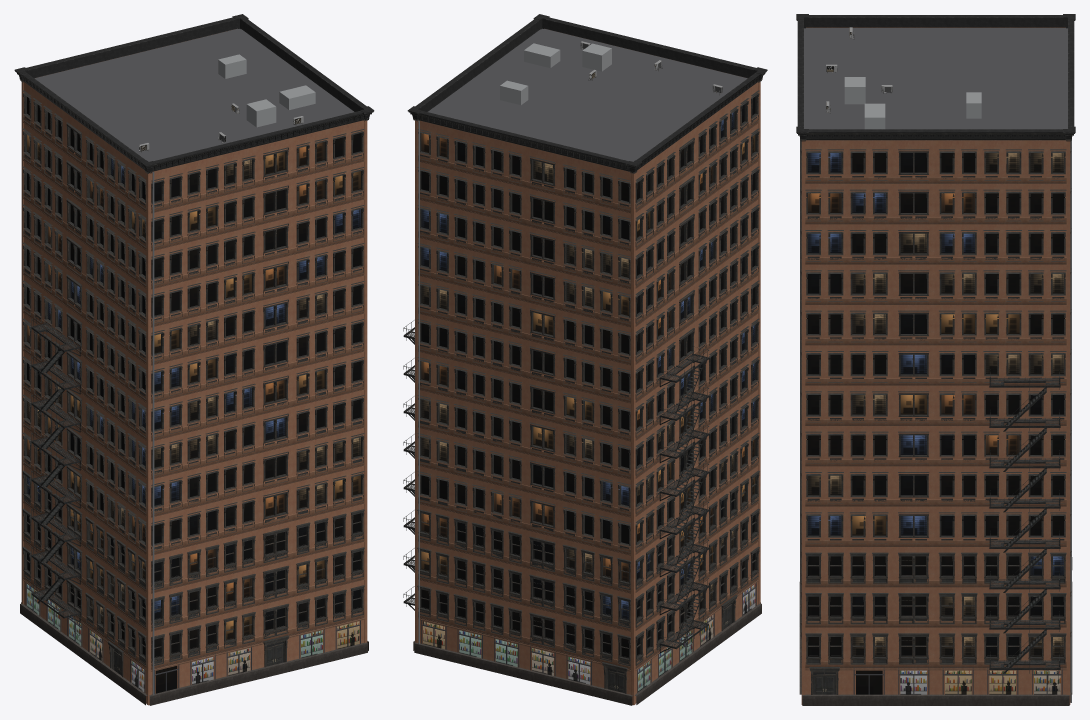
File: apt_tower.gltf
3 views of the same model, side by side, from view 1: azimuth 30°, elevation 25°; view 2: azimuth 150°, elevation 25°; view 3: azimuth 270°, elevation 25° (orthographic). The views are drawn at different scales.
Parts seen in each view (by area): view 1: apt_tower; view 2: apt_tower; view 3: apt_tower.
Part boxes in pixels (bbox=[...]): apt_tower: bbox=[14, 14, 374, 705]; apt_tower: bbox=[403, 14, 767, 705]; apt_tower: bbox=[796, 14, 1075, 705].
Bounding box in the file's own units: 20.83 × 43.23 × 18.85.
Materials: 15 (10 with a texture image).
